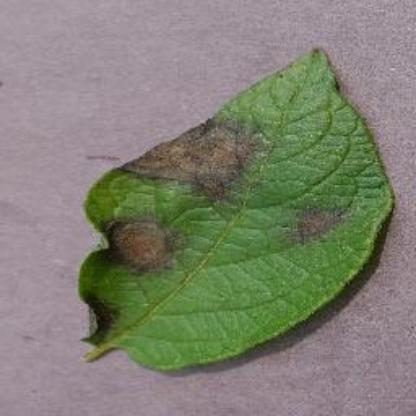Late-Blight: (68, 42, 396, 372)
